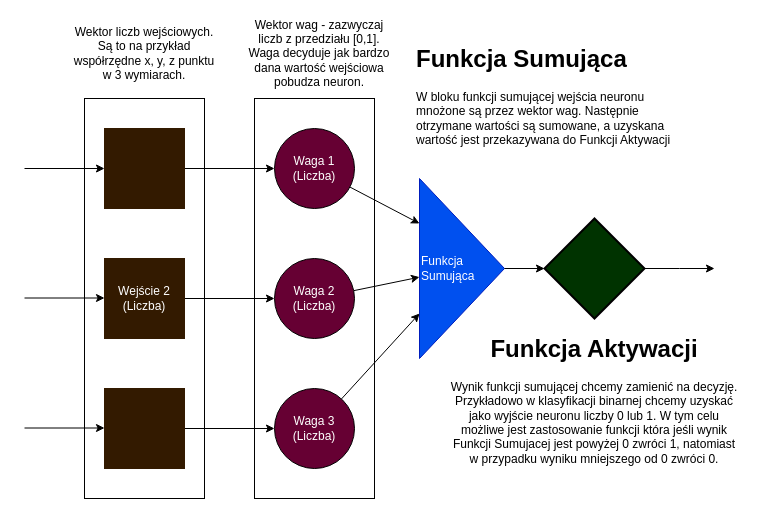
The diagram is 757 pixels wide and 516 high, and some of its shapes have lost their labels. Here are the shapes that lost their labels. From the top down, the centre of each, then its label:
the point at 144,168: Wejście 1 (Liczba)
the point at 594,268: Funkcja Aktywacji
the point at 144,428: Wejście 3 (Liczba)
